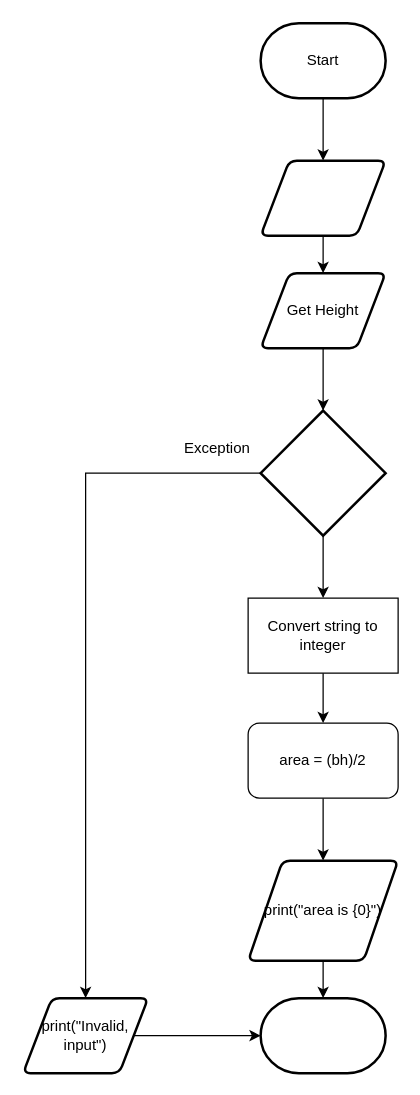
This 420x1095 diagram has some shape labels left out. Each missing label, with the centre of its shape:
"Get base" belongs at point (322, 197).
"Stop" belongs at point (322, 1035).
"Try" belongs at point (322, 472).
